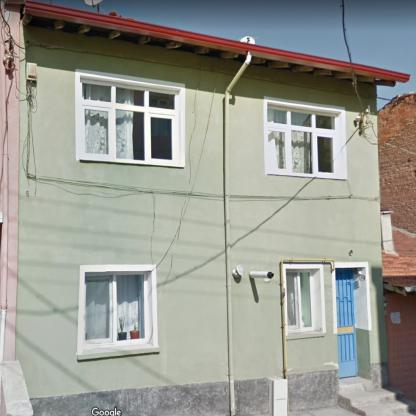door: (384, 292, 415, 400), (334, 269, 357, 376)
window: (80, 77, 178, 164), (81, 270, 154, 348), (269, 103, 339, 174), (285, 268, 322, 335)
